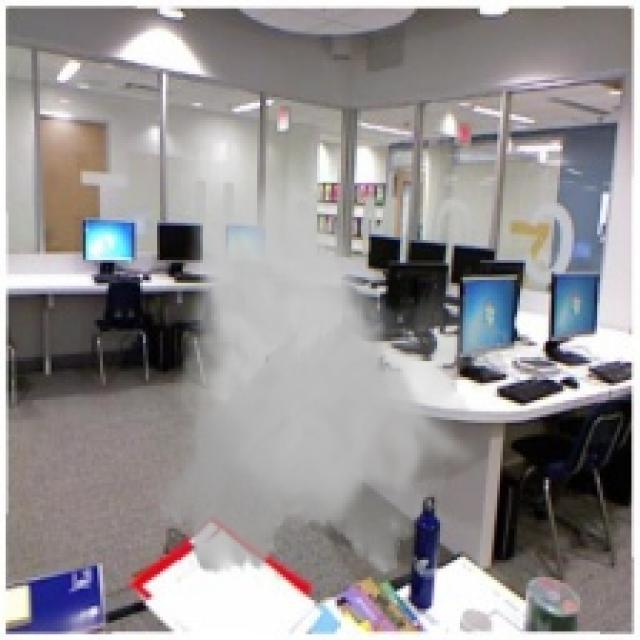Smoke: (146, 160, 512, 586)
